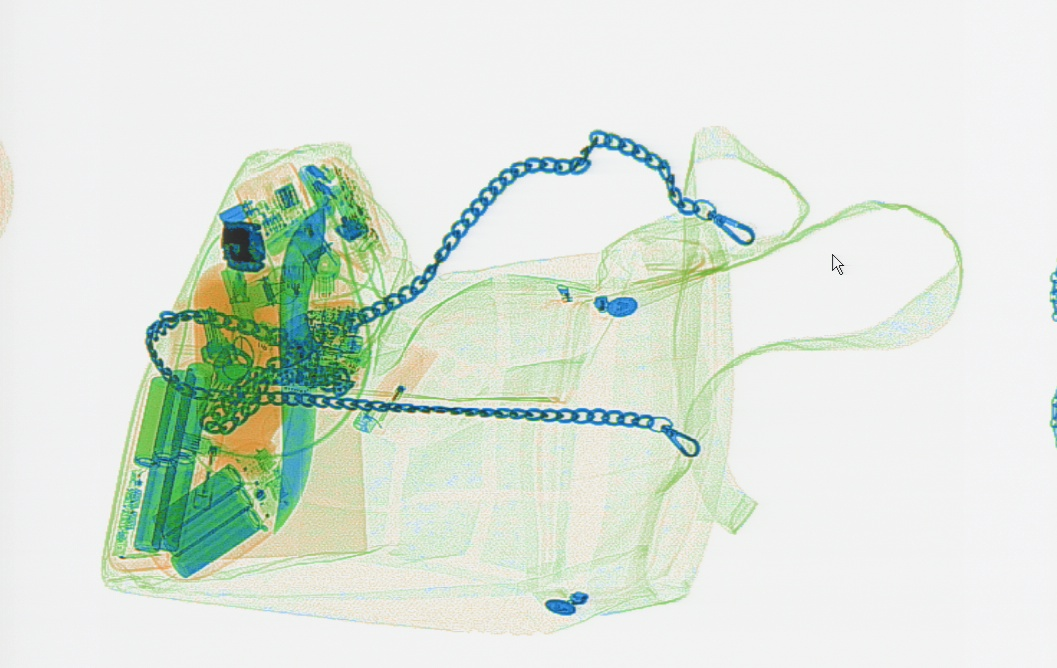knife: (269, 205, 330, 535)
lighter: (352, 336, 437, 435), (187, 391, 229, 512)
powerbank: (107, 358, 214, 573), (139, 438, 292, 583)
